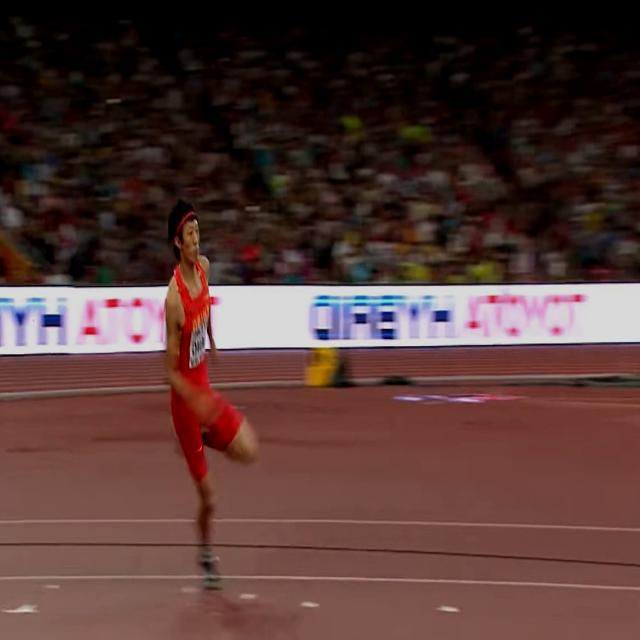run: (165, 200, 261, 586)
